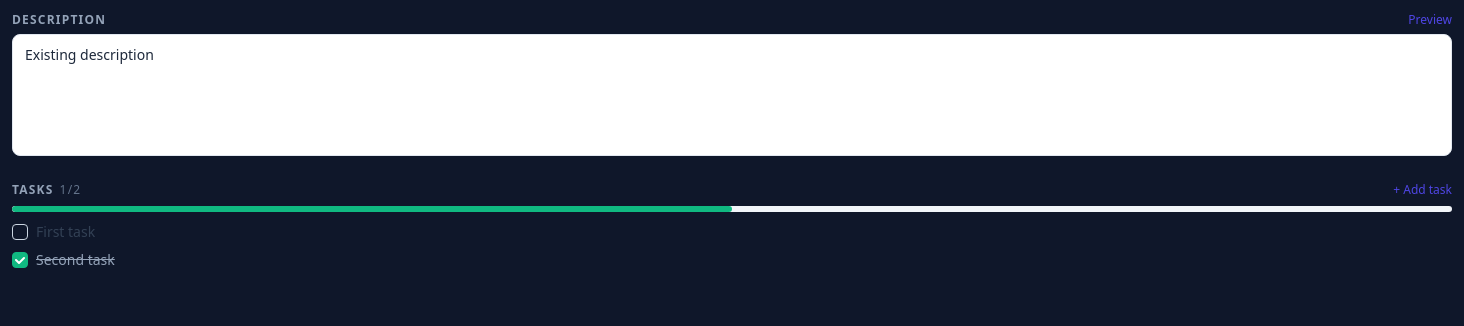
Test case: CardDescriptionTab › adds a new task
This screenshot has width=1464, height=326.
Expected: the text "First task" is shown, left=36, top=222, right=95, bottom=241
Click the button "+ Add task" at (1423, 190), box left=1393, top=182, right=1452, bottom=198
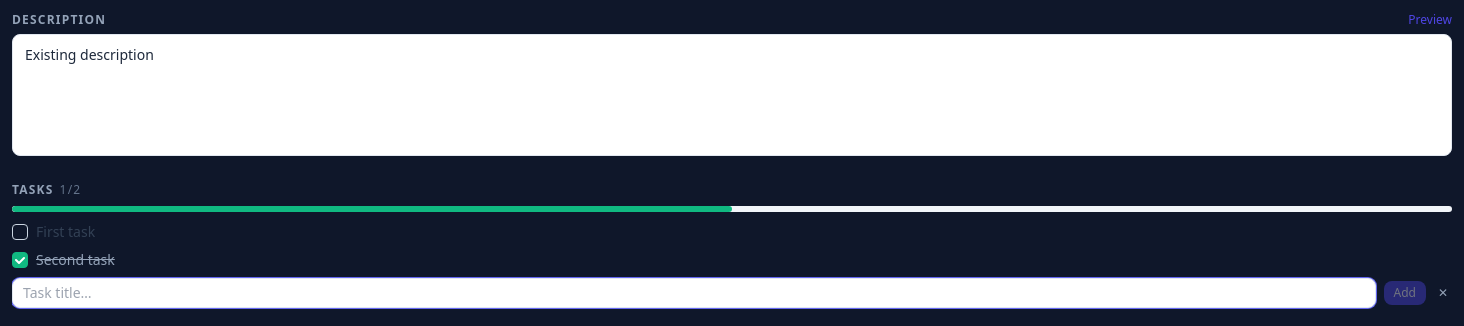
Type "New task" into the field with placeholder "Task title…" at (694, 293), box left=12, top=278, right=1376, bottom=308
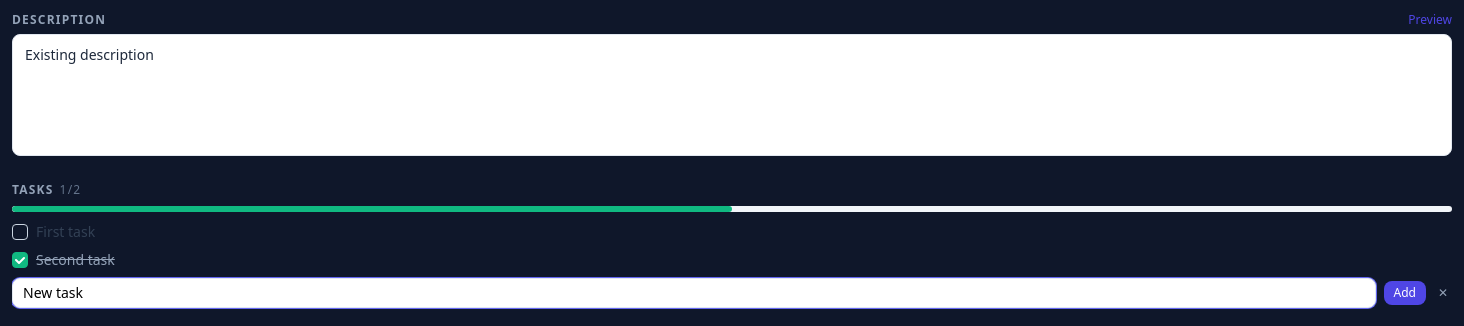
Click the button "Add" at (1405, 293), box left=1384, top=281, right=1426, bottom=305
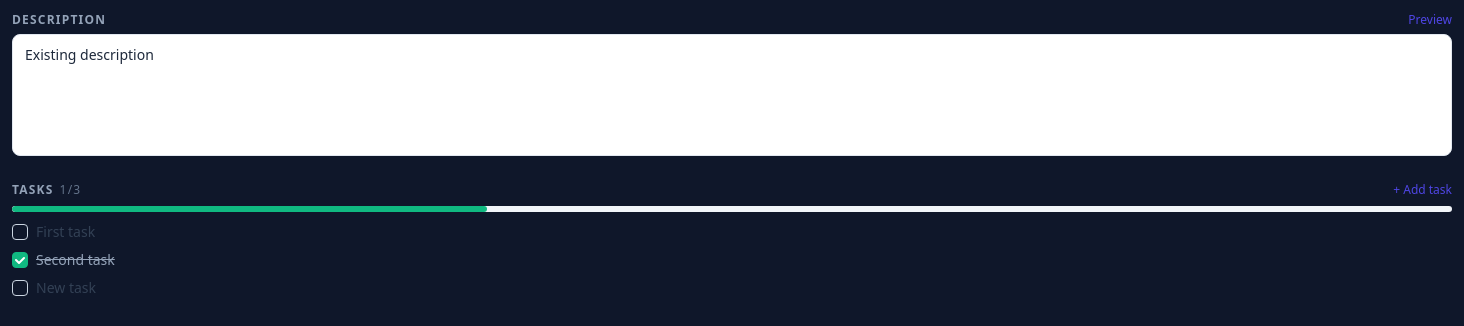
Now the text "New task" is shown, box left=36, top=278, right=96, bottom=297
